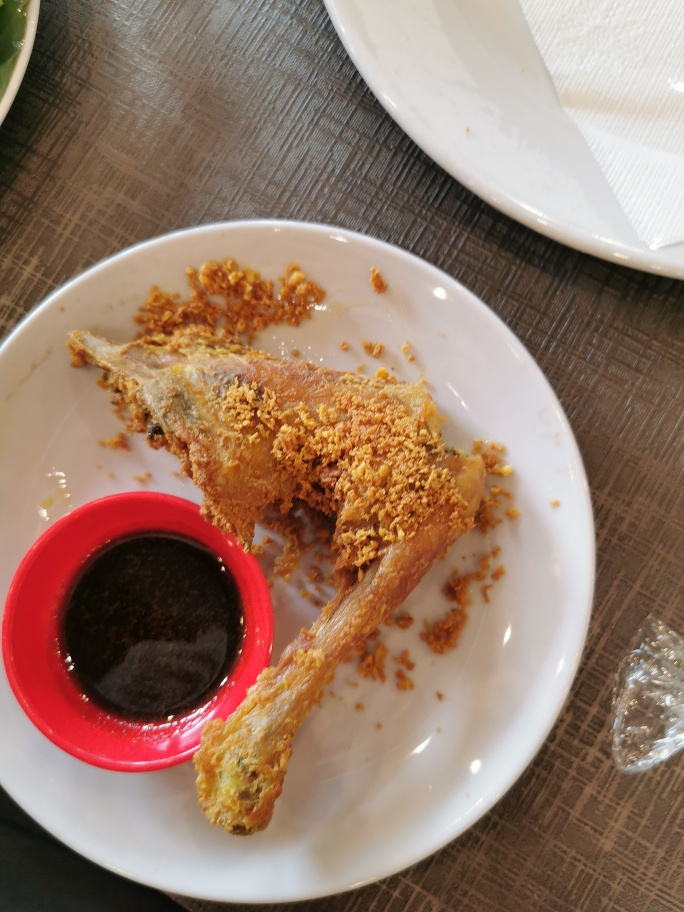ayam goreng: (47, 316, 490, 840)
kecap: (15, 486, 278, 764)
